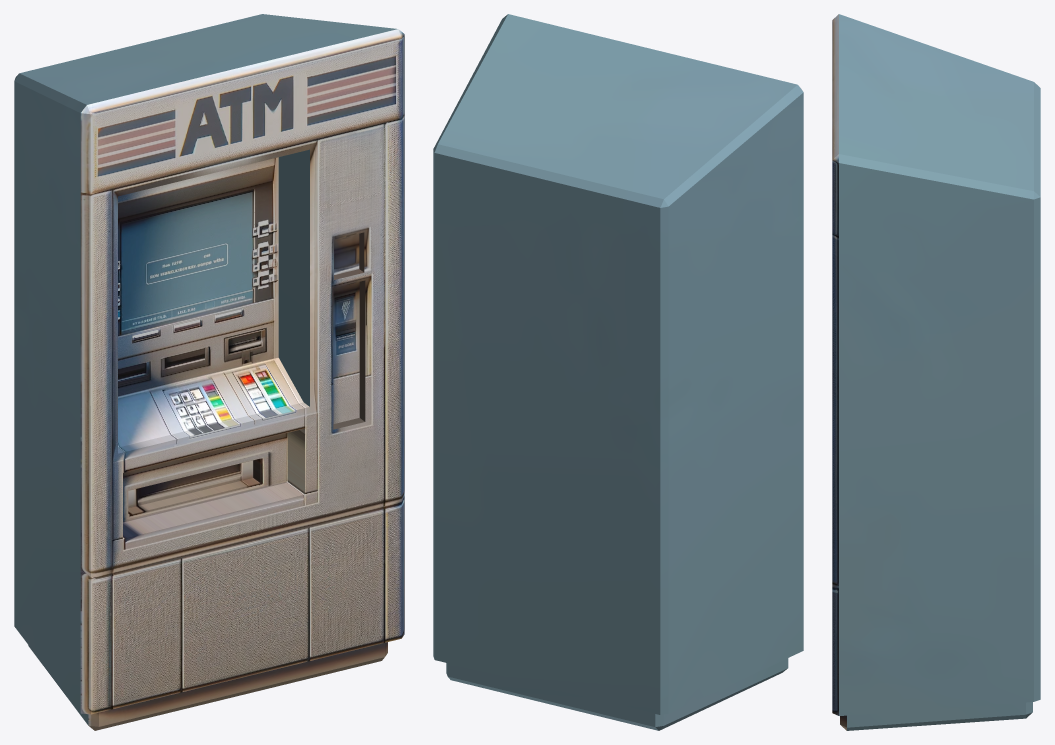
Rendered from ATM.fbx.
3 renders of one model, left to right at view 1: azimuth 30°, elevation 25°; view 2: azimuth 150°, elevation 25°; view 3: azimuth 270°, elevation 25°, orthographic. The views are drawn at different scales.
Parts seen in each view (by area): view 1: Cube; view 2: Cube; view 3: Cube.
Boxes of the visible parts, left/top/right/bottom form: Cube: left=14, top=14, right=404, bottom=730; Cube: left=433, top=14, right=803, bottom=730; Cube: left=832, top=14, right=1040, bottom=730.
Size of the model in its own units: 99.09 by 305 by 164.
